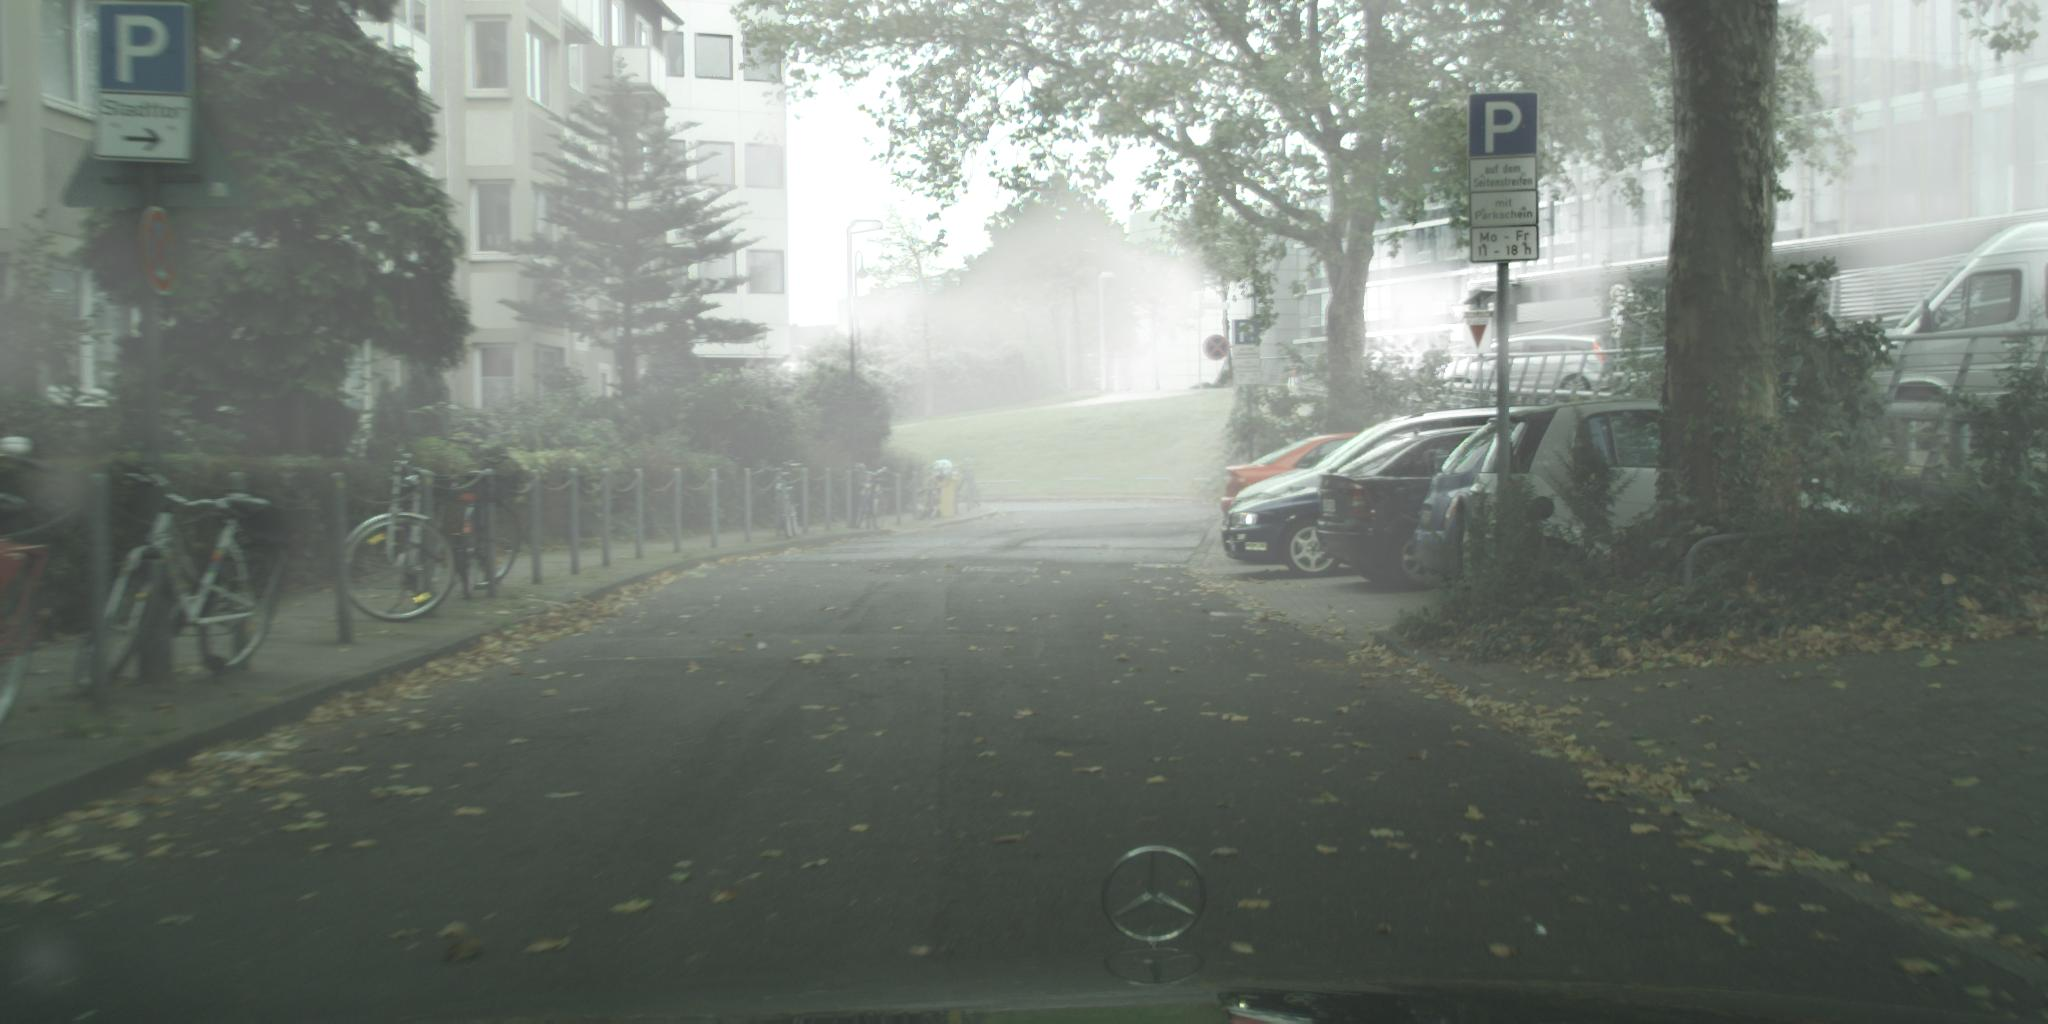bicycle: (74, 455, 290, 699), (340, 451, 456, 624), (1, 438, 56, 728), (438, 458, 522, 600), (752, 462, 805, 539), (852, 464, 895, 533), (912, 468, 956, 521), (944, 456, 982, 507)
car: (1825, 221, 2048, 453), (1223, 409, 1536, 556), (1463, 398, 1676, 586), (1229, 434, 1485, 581), (1317, 430, 1509, 594), (1238, 417, 1445, 533), (1412, 418, 1546, 579), (1221, 434, 1388, 522), (1425, 334, 1620, 397)
